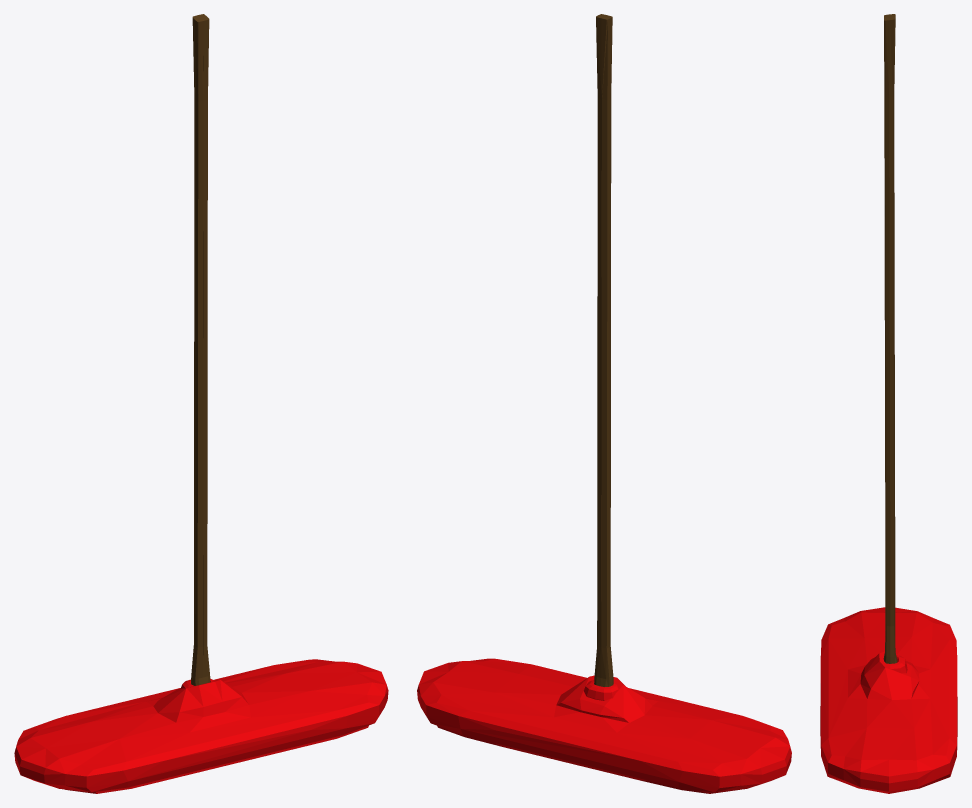
Rendered from broom.fbx.
3 renders of one model, left to right at view 1: azimuth 30°, elevation 25°; view 2: azimuth 150°, elevation 25°; view 3: azimuth 270°, elevation 25°, orthographic. The views are drawn at different scales.
Parts seen in each view (by area): view 1: broom bottom, broom.stick; view 2: broom bottom, broom.stick; view 3: broom bottom, broom.stick.
Part boxes in pixels (x1=…): broom bottom: x1=14, y1=659, x2=388, y2=793; broom.stick: x1=180, y1=14, x2=214, y2=688; broom bottom: x1=417, y1=658, x2=791, y2=793; broom.stick: x1=583, y1=14, x2=618, y2=700; broom bottom: x1=820, y1=607, x2=957, y2=793; broom.stick: x1=883, y1=14, x2=907, y2=673.
Bounding box in the file's own units: 73.5 × 140 × 24.84.
